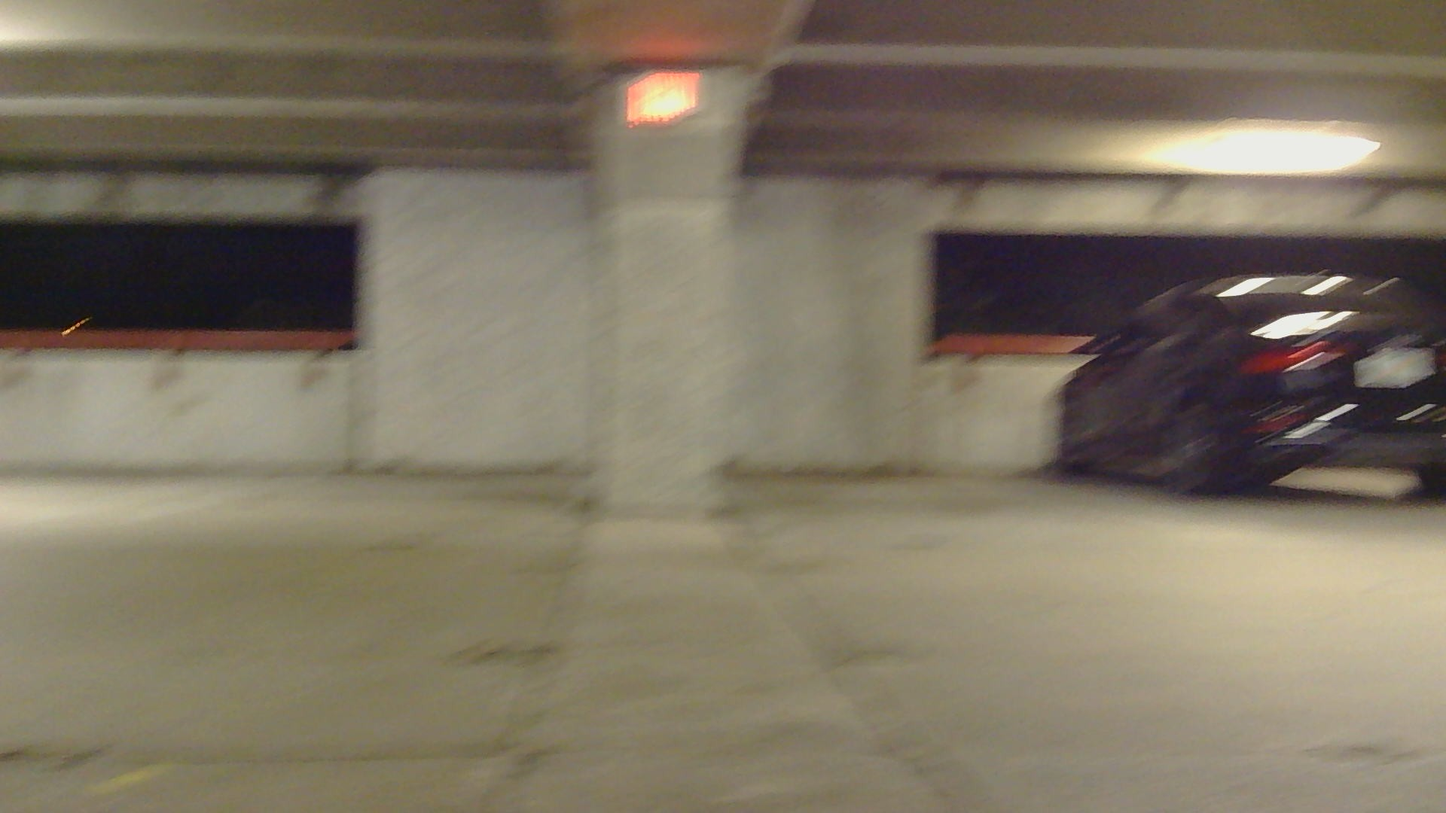empty_spot: (60, 387, 582, 531), (727, 396, 1163, 523), (0, 399, 222, 534)
occupied_spot: (1041, 269, 1445, 512)
